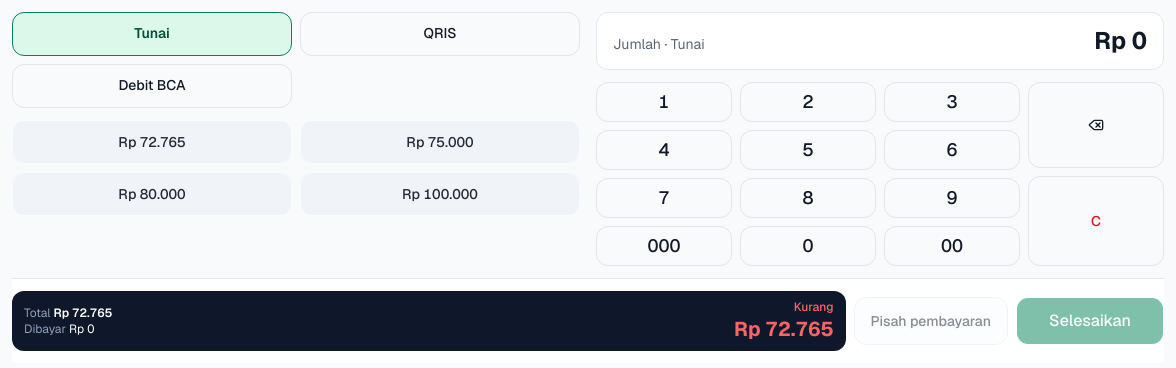
Test: PaymentPanel › offers only static QRIS when there is no dynamic QRIS client (offline / demo)
The width and height of the screenshot is (1176, 368).
Click the button "QRIS" at (440, 34), box [300,12,580,56]
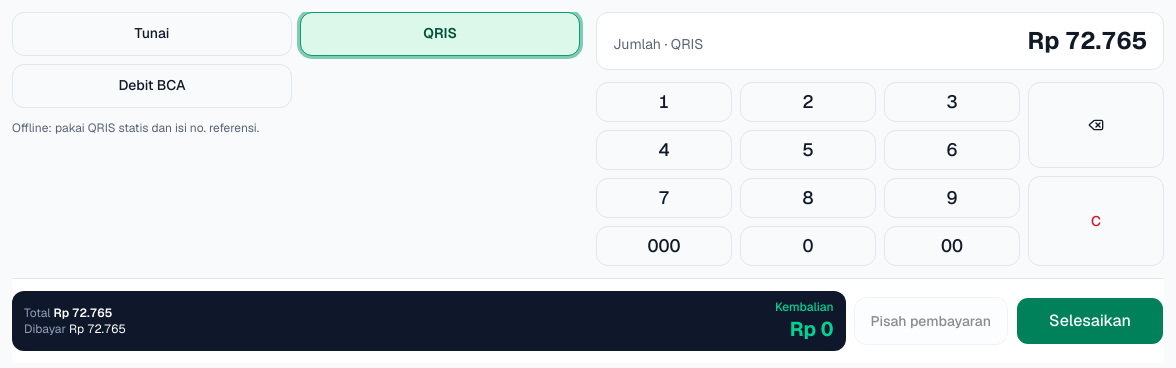
Expected: the text "Offline: pakai QRIS statis dan isi no. referensi." is shown, [12,120,259,136]
